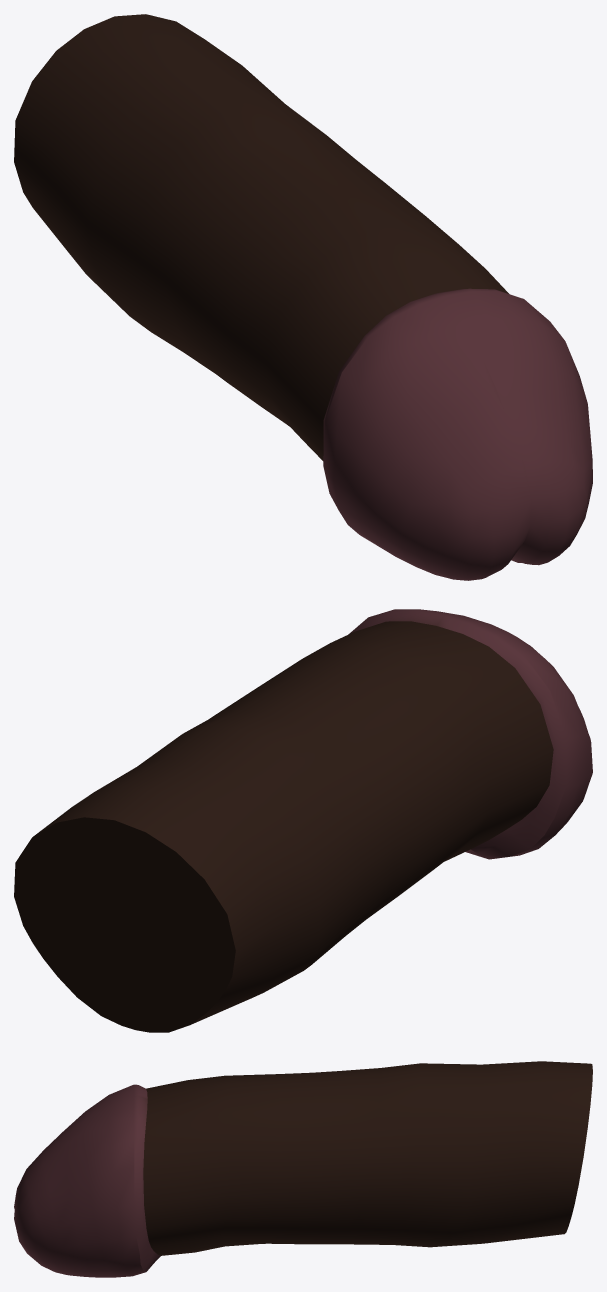
The model's file is NoBallsBroken.fbx.
3 views of the same model, one above another, from view 1: azimuth 30°, elevation 25°; view 2: azimuth 150°, elevation 25°; view 3: azimuth 270°, elevation 25° (orthographic). The views are drawn at different scales.
Parts seen in each view (by area): view 1: TipNoBalls; view 2: TipNoBalls; view 3: TipNoBalls.
Boxes of the visible parts, left/top/right/bottom form: TipNoBalls: left=14, top=14, right=592, bottom=580; TipNoBalls: left=14, top=609, right=592, bottom=1032; TipNoBalls: left=14, top=1061, right=592, bottom=1277.
Bounding box in the file's own units: 5.25 × 5.73 × 15.56.
